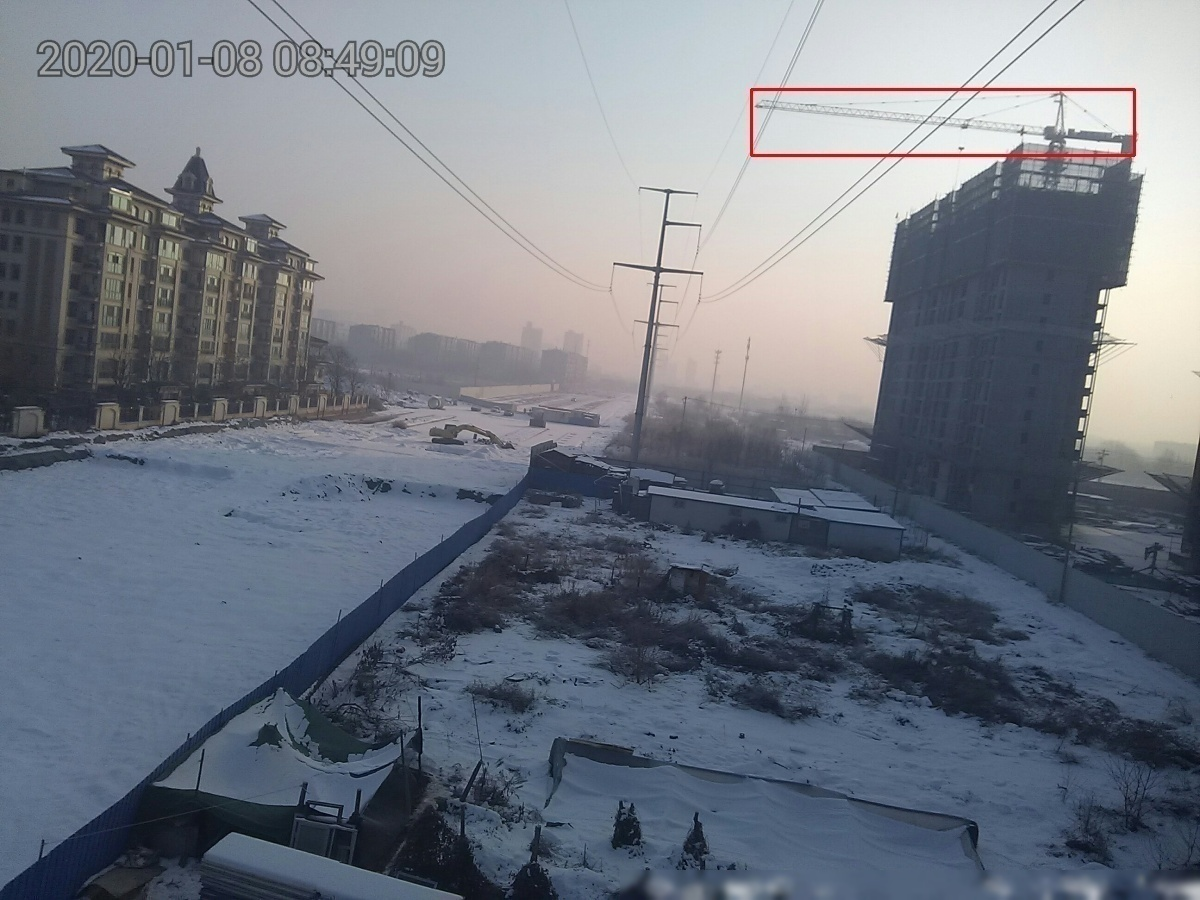gouche: (426, 411, 516, 452)
tadiao: (754, 84, 1136, 154)
